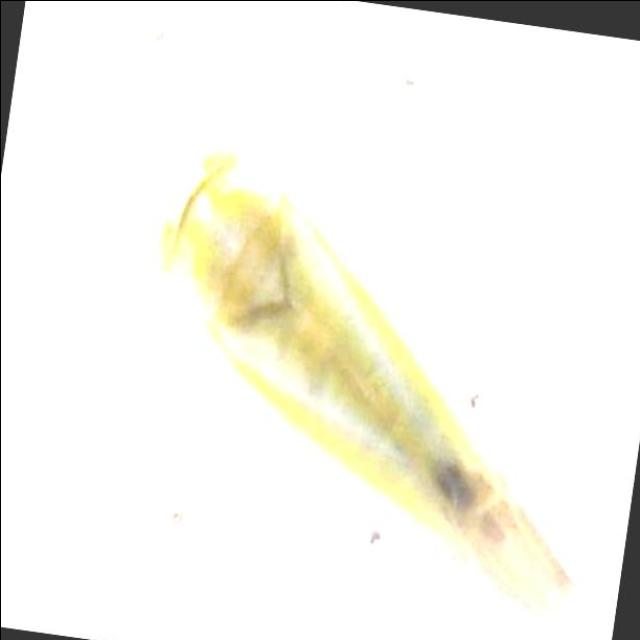green leaf hopper: (160, 153, 567, 602)
